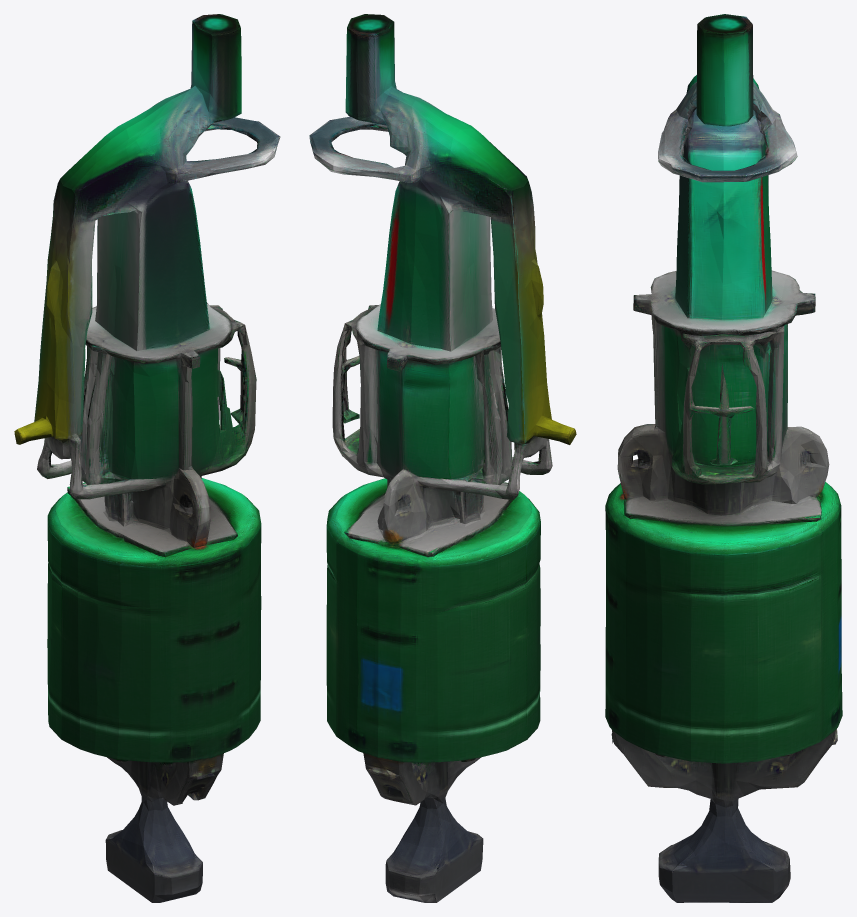
File: yeşil_duba28.glb
3 renders of one model, left to right at view 1: azimuth 30°, elevation 25°; view 2: azimuth 150°, elevation 25°; view 3: azimuth 270°, elevation 25°, orthographic. The views are drawn at different scales.
Visible parts, largest first — view 1: world; view 2: world; view 3: world.
Part boxes in pixels (x1,y1,x2,y2): world: (14, 14, 280, 902); world: (309, 14, 576, 902); world: (605, 14, 842, 902).
Size of the model in its own units: 0.3149 by 1 by 0.2391.
1 material, 1 textured.
